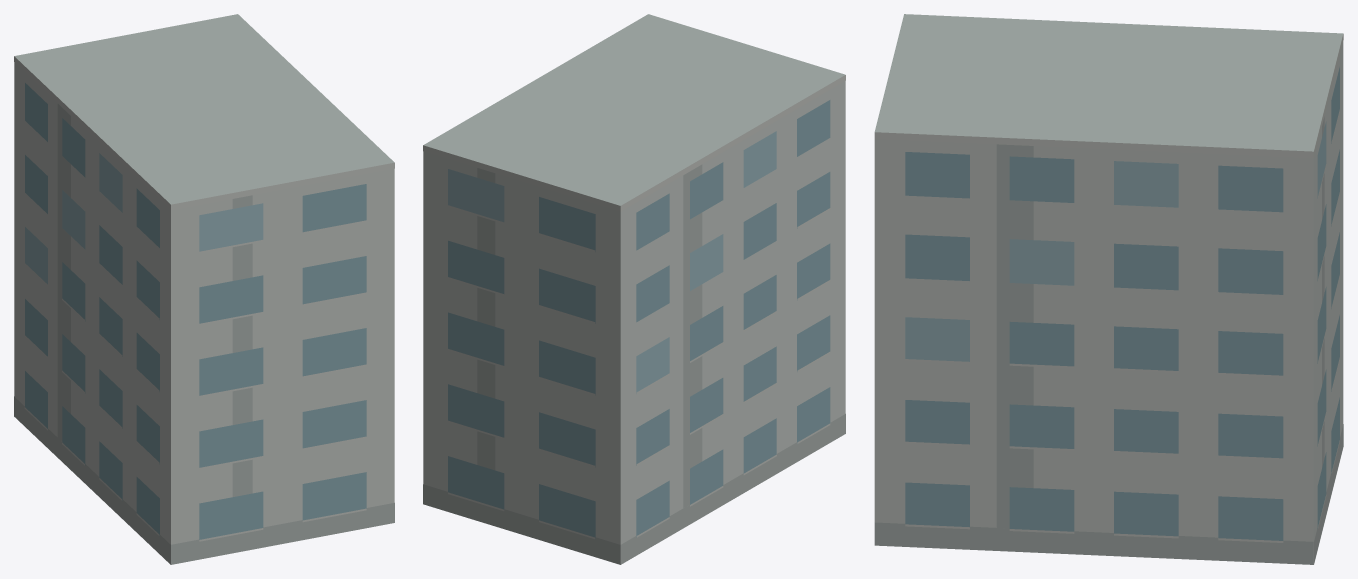
File: survey-upis-32930934.glb
The picture shows the model from 3 angles, left to right: view 1: azimuth 30°, elevation 25°; view 2: azimuth 150°, elevation 25°; view 3: azimuth 270°, elevation 25°; orthographic projection. The views are drawn at different scales.
Parts seen in each view (by area): view 1: survey-upis-32930934.tmp; view 2: survey-upis-32930934.tmp; view 3: survey-upis-32930934.tmp.
Part boxes in pixels (x1,y1,x2,y2): survey-upis-32930934.tmp: (14, 14, 394, 564); survey-upis-32930934.tmp: (423, 14, 845, 564); survey-upis-32930934.tmp: (874, 14, 1343, 564).
Size of the model in its own units: 10.53 by 14.75 by 15.17.
